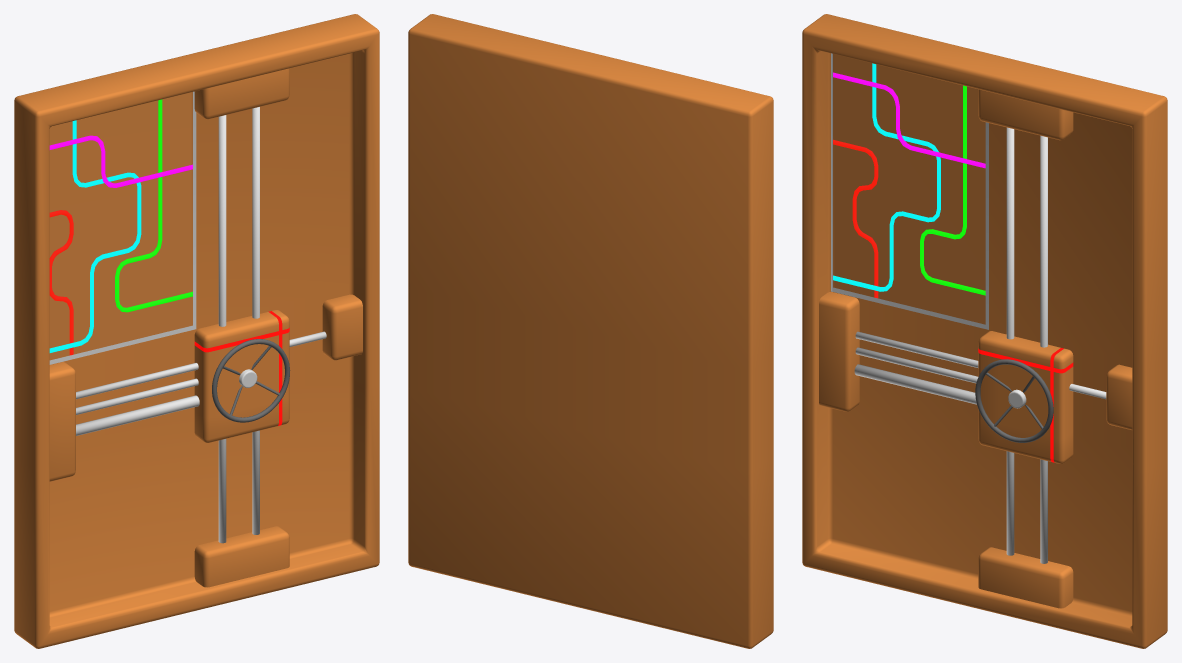
File: PortaGeral.fbx
The picture shows the model from 3 angles, left to right: view 1: azimuth 30°, elevation 25°; view 2: azimuth 150°, elevation 25°; view 3: azimuth 330°, elevation 25°; orthographic projection.
Parts seen in each view (by area): view 1: PortaGeral, TravasPortaG; view 2: PortaGeral; view 3: PortaGeral, TravasPortaG.
Part boxes in pixels (x1,y1,x2,y2): PortaGeral: [14, 14, 379, 648]; TravasPortaG: [76, 107, 326, 543]; PortaGeral: [408, 14, 773, 648]; PortaGeral: [802, 14, 1167, 648]; TravasPortaG: [854, 127, 1106, 563].
Size of the model in its own units: 1232 by 1837 by 158.
